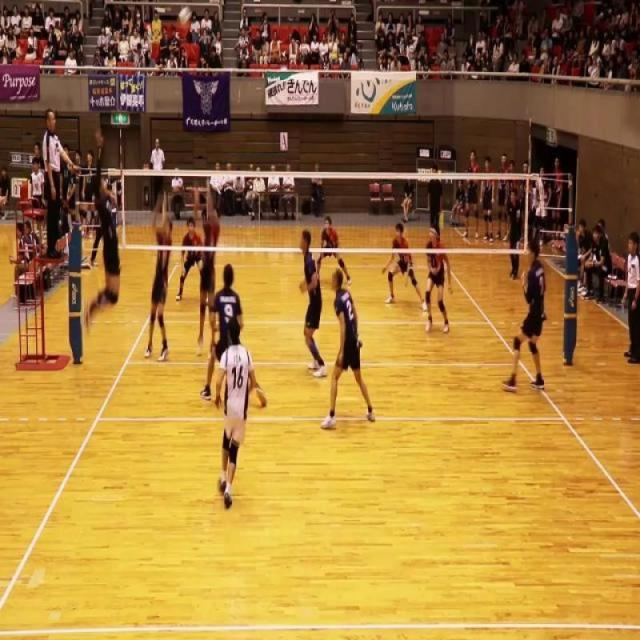volleyball: (178, 4, 193, 27)
